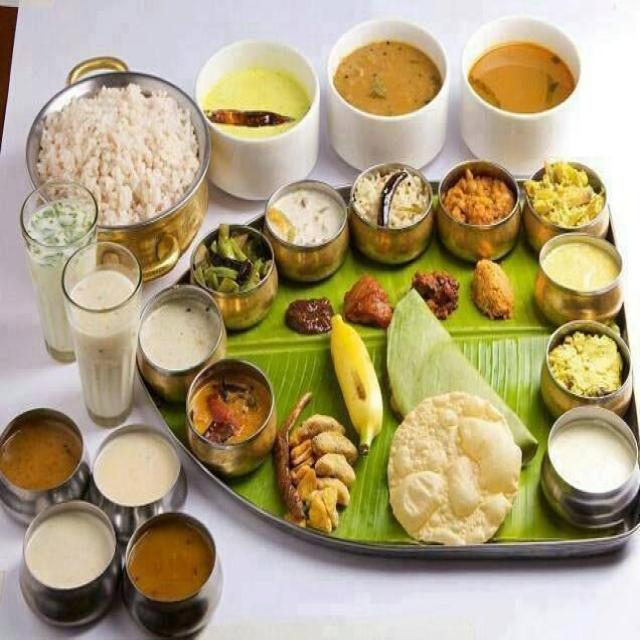veg meals: (0, 12, 640, 614)
